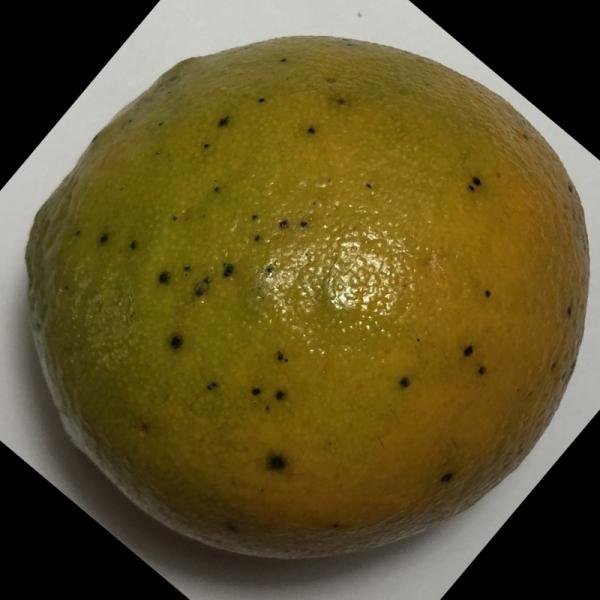Machas negras: (19, 34, 594, 562)
